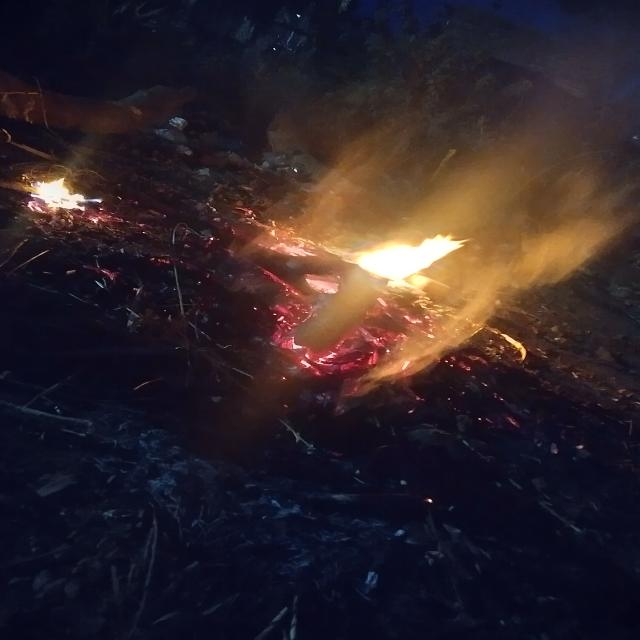firerotation: (340, 230, 474, 290), (32, 175, 105, 212)
